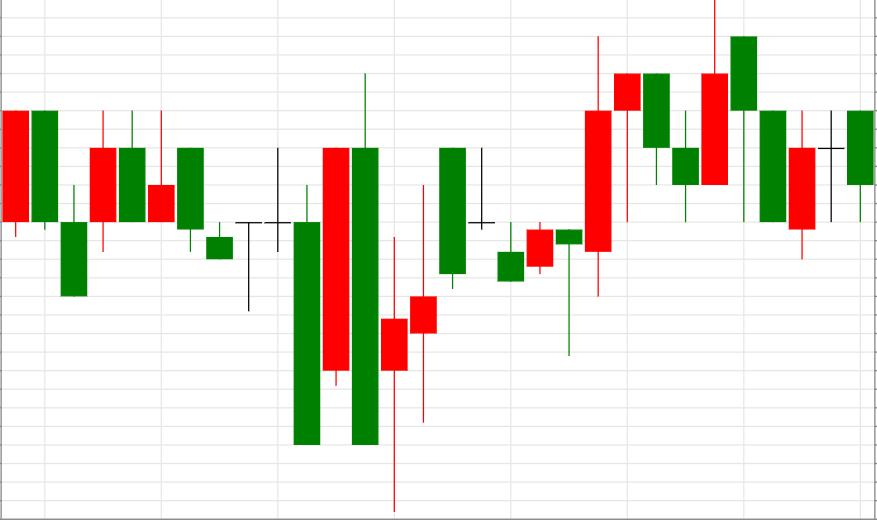hanging_man_fall: (498, 35, 642, 356)
